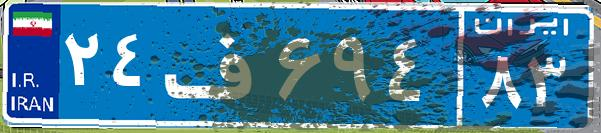2: (57, 26, 110, 107)
3: (525, 38, 570, 115)
4: (385, 28, 445, 110), (110, 28, 158, 105)
6: (273, 28, 330, 110)
8: (475, 38, 525, 113)
9: (330, 28, 385, 110)
ف: (158, 15, 273, 115)
